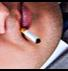Cigarette: (20, 27, 40, 43)
